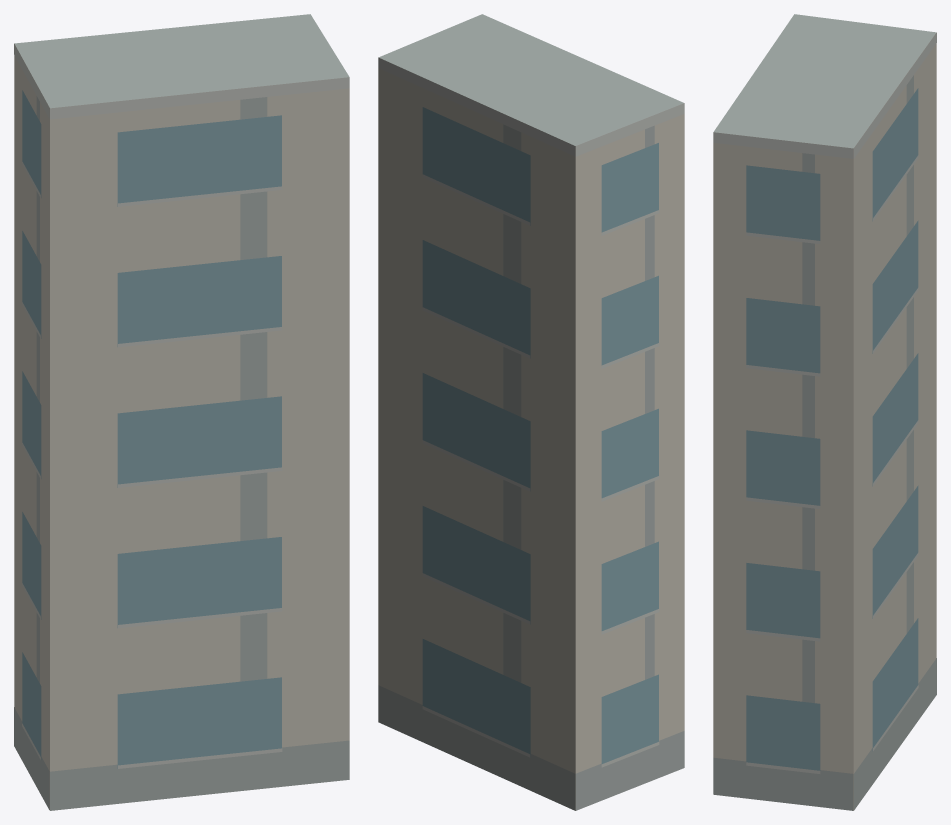
Rendered from survey-upis-32573950.glb.
3 views of the same model, side by side, from view 1: azimuth 30°, elevation 25°; view 2: azimuth 150°, elevation 25°; view 3: azimuth 270°, elevation 25° (orthographic). The views are drawn at different scales.
Visible parts, largest first — view 1: survey-upis-32573950.tmp; view 2: survey-upis-32573950.tmp; view 3: survey-upis-32573950.tmp.
Part boxes in pixels (<box>): survey-upis-32573950.tmp: <box>14,14,349,810</box>; survey-upis-32573950.tmp: <box>378,14,684,810</box>; survey-upis-32573950.tmp: <box>713,14,936,810</box>.
Bounding box in the file's own units: 6.64 × 15.25 × 4.67.
